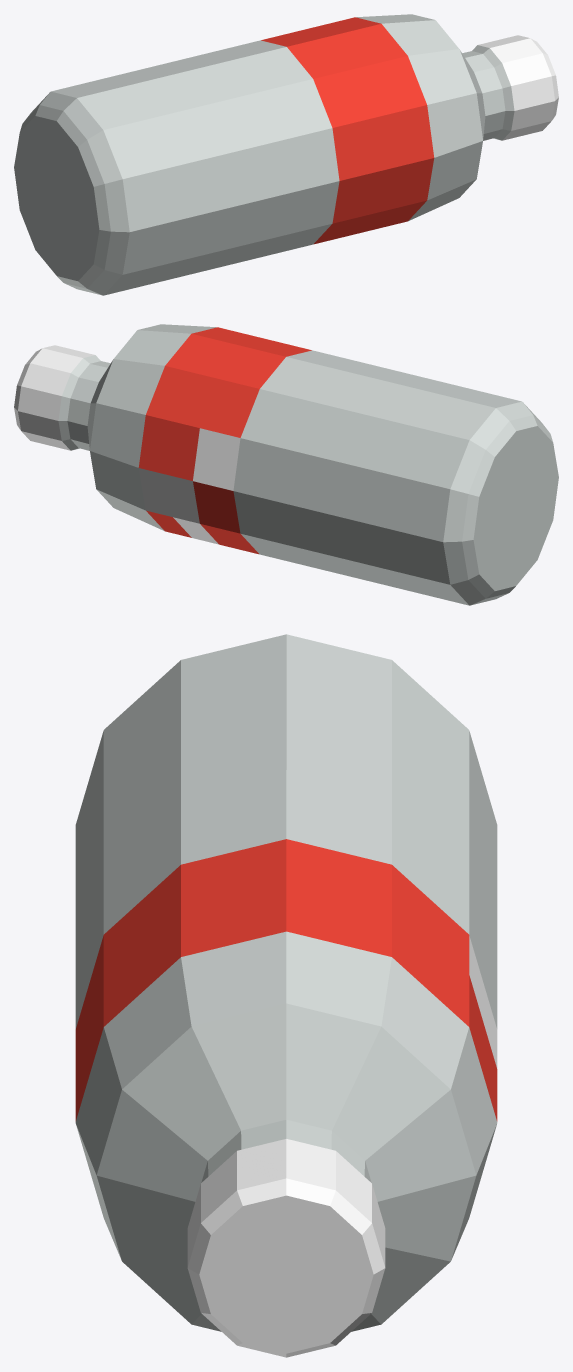
The model's file is trash7.fbx.
The picture shows the model from 3 angles, top to bottom: view 1: azimuth 30°, elevation 25°; view 2: azimuth 150°, elevation 25°; view 3: azimuth 270°, elevation 25°; orthographic projection. The views are drawn at different scales.
Parts seen in each view (by area): view 1: group1279790214; view 2: group1279790214; view 3: group1279790214.
Boxes of the visible parts, bbox=[...] form: group1279790214: bbox=[14, 14, 558, 295]; group1279790214: bbox=[14, 324, 558, 605]; group1279790214: bbox=[75, 634, 497, 1357].
Bounding box in the file's own units: 56.52 × 21.49 × 21.49.
